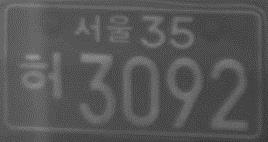0: (121, 55, 162, 128)
2: (206, 56, 253, 133)
3: (77, 50, 119, 128), (140, 13, 166, 50)
5: (168, 15, 195, 50)
9: (165, 54, 205, 131)
서울_O: (73, 13, 133, 43)
허: (19, 51, 64, 100)
